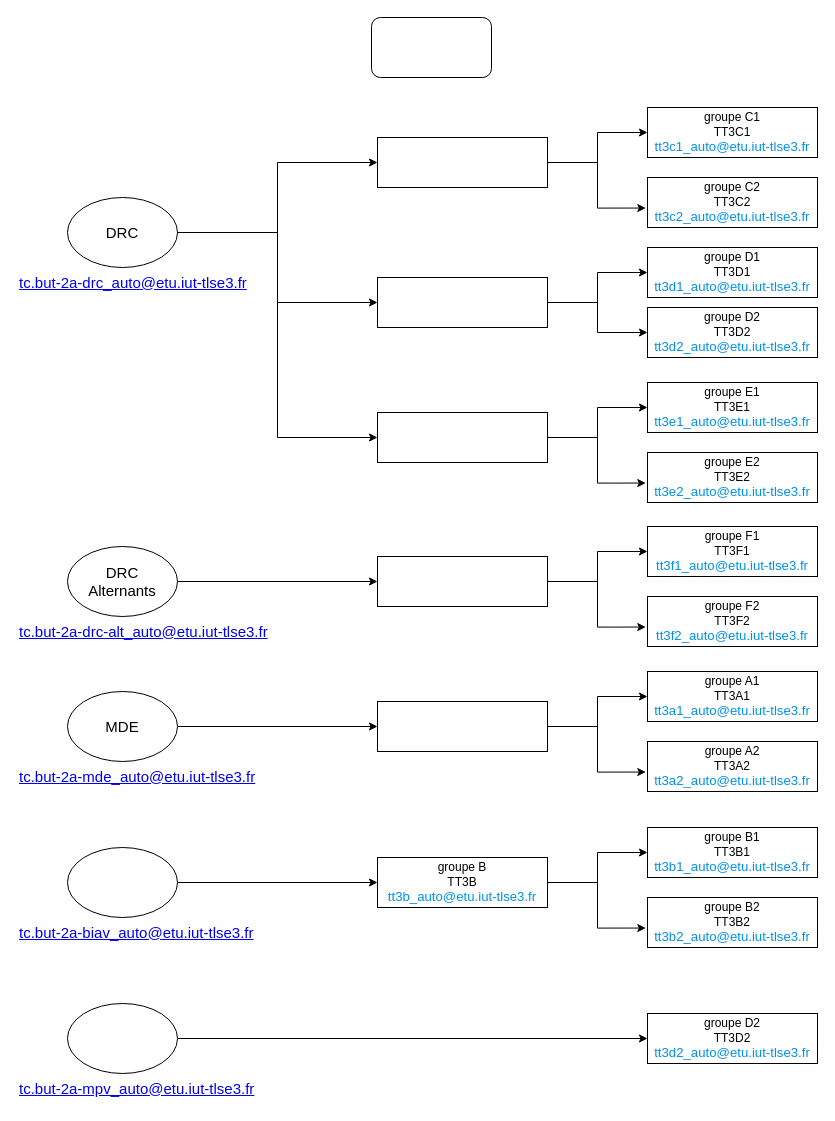
The diagram is 835 pixels wide and 1121 high, and some of its shapes have lost their labels. Each missing label, with the box of its shape:
BIAV: (66, 846, 178, 918)
BUT 2: (370, 16, 492, 78)
groupe A TT3A tt3a_auto@etu.iut-tlse3.fr: (376, 700, 548, 752)
groupe C TT3C tt3c_auto@etu.iut-tlse3.fr: (376, 136, 548, 188)
groupe D TT3D tt3d_auto@etu.iut-tlse3.fr: (376, 276, 548, 328)
groupe E TT3E tt3e_auto@etu.iut-tlse3.fr: (376, 412, 548, 462)
groupe F TT3F tt3f_auto@etu.iut-tlse3.fr: (376, 556, 548, 606)
MPV: (66, 1002, 178, 1074)
